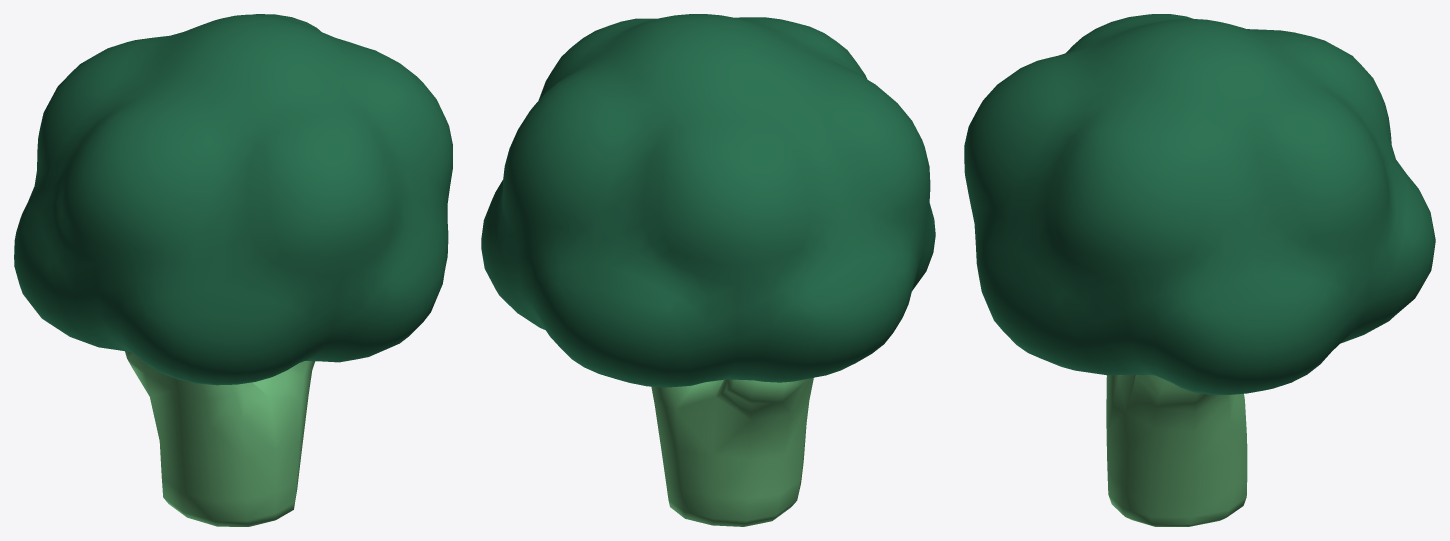
The model's file is Broccoli_02.dae.
3 views of the same model, side by side, from view 1: azimuth 30°, elevation 25°; view 2: azimuth 150°, elevation 25°; view 3: azimuth 270°, elevation 25° (orthographic). The views are drawn at different scales.
Parts seen in each view (by area): view 1: Broccoli_02_LOD0; view 2: Broccoli_02_LOD0; view 3: Broccoli_02_LOD0.
Part boxes in pixels (bbox=[...]): Broccoli_02_LOD0: bbox=[14, 14, 452, 526]; Broccoli_02_LOD0: bbox=[481, 14, 935, 526]; Broccoli_02_LOD0: bbox=[964, 14, 1435, 526].
Size of what is drawn, in the model's own units: 5.12 by 5.16 by 5.83.
